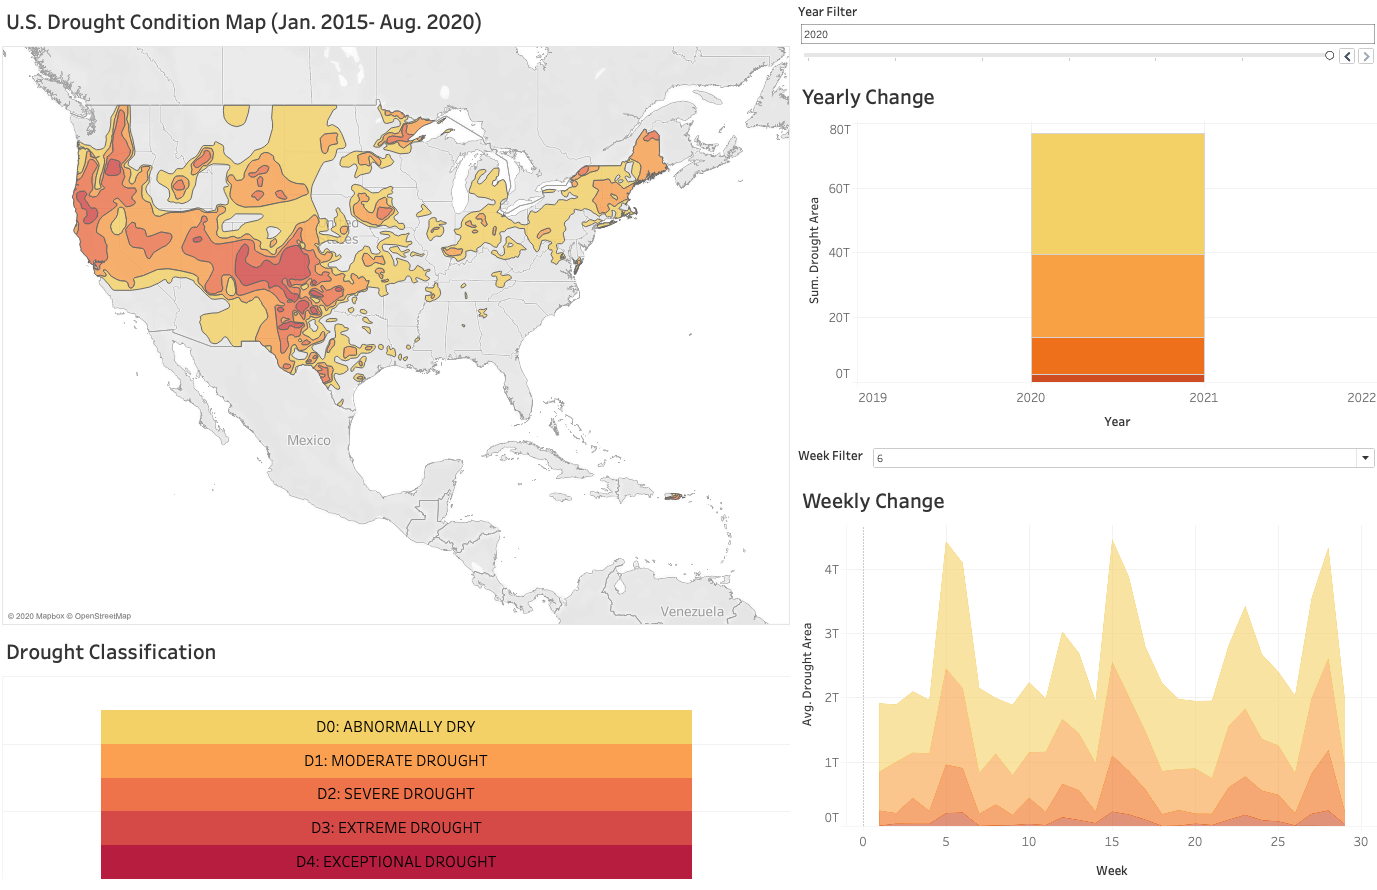

This screenshot's page, from the dashboard's own definition file:
{"tool":"tableau","page":{"name":"Dashboard 1","canvas":[1400,900],"ordinal":0},"visuals":[{"type":"worksheet","box":[0,0,1400,900]},{"type":"worksheet","param":"horz","box":[8,8,1384,884]},{"type":"worksheet","box":[8,8,796,884]},{"type":"worksheet","title":"map","mark":"Multipolygon","box":[8,8,796,630]},{"type":"worksheet","box":[804,8,588,884]},{"type":"worksheet","param":"vert","box":[804,8,588,442]},{"type":"worksheet","title":"map","mark":"Multipolygon","param":"[federated.0ugft121hy1alw1blwwes01msgr7].[none:Year:ok]","box":[804,8,588,75]},{"type":"worksheet","title":"year","mark":"Bar","rows":["Shape_Area"],"cols":["Year"],"box":[804,83,588,367]},{"type":"worksheet","title":"map","mark":"Multipolygon","param":"[federated.0ugft121hy1alw1blwwes01msgr7].[none:Week:ok]","box":[804,450,588,37]},{"type":"worksheet","param":"vert","box":[804,487,588,405]},{"type":"worksheet","title":"week","mark":"Area","rows":["Shape_Area"],"cols":["Week"],"box":[804,487,588,405]},{"type":"worksheet","title":"category","mark":"Bar","rows":["Calculation_6819083167638147078"],"box":[8,638,796,254]}]}

Visuals, with their boxes in screenshot pixels (x1, y1, x2, y2), scaled from the page's 1400x900 canvas onto the 1377x890 screenshot:
worksheet: bbox=[0, 0, 1376, 889]
worksheet: bbox=[8, 8, 1369, 882]
worksheet: bbox=[8, 8, 791, 882]
"map" worksheet (Multipolygon marks): bbox=[8, 8, 791, 631]
worksheet: bbox=[791, 8, 1369, 882]
worksheet: bbox=[791, 8, 1369, 445]
"map" worksheet (Multipolygon marks): bbox=[791, 8, 1369, 82]
"year" worksheet (Bar marks): bbox=[791, 82, 1369, 445]
"map" worksheet (Multipolygon marks): bbox=[791, 445, 1369, 482]
worksheet: bbox=[791, 482, 1369, 882]
"week" worksheet (Area marks): bbox=[791, 482, 1369, 882]
"category" worksheet (Bar marks): bbox=[8, 631, 791, 882]
